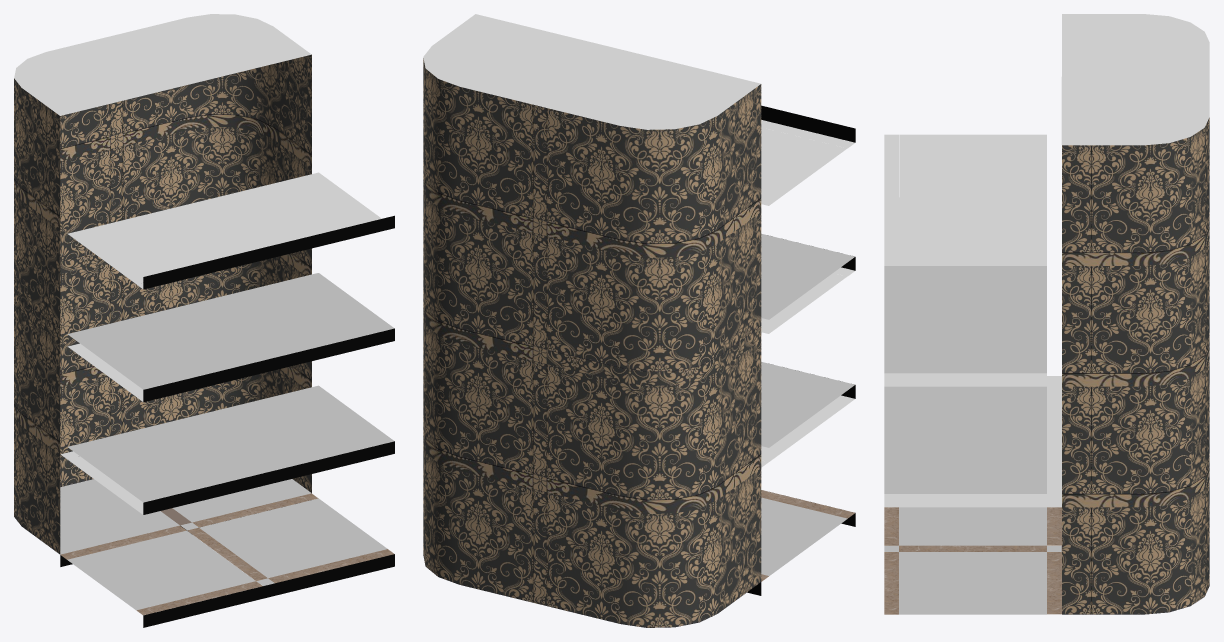
The model's file is Stairway.fbx.
3 renders of one model, left to right at view 1: azimuth 30°, elevation 25°; view 2: azimuth 150°, elevation 25°; view 3: azimuth 270°, elevation 25°, orthographic. The views are drawn at different scales.
Parts seen in each view (by area): view 1: Wall_curved_right_stairway.003, Wall_curved_left_stairway.003, Wall_curved_right_stairway.004, Wall_curved_left_stairway.002, Wall_curved_left_stairway.001, Floor_mainfloor.007, Floor_mainfloor.014, Floor_hallway.008, Floor_hallway.013, Floor_hallway.017, Floor_hallway.009, Ceiling_curved_right_stairway.001 (+38 smaller); view 2: Wall_curved_left_stairway.004, Wall_curved_left_stairway.002, Wall_curved_left_stairway.003, Wall_curved_left_stairway.001, Wall_curved_right_stairway.001, Wall_curved_right_stairway.002, Wall_curved_right_stairway.003, Wall_curved_right_stairway.004, Ceiling_curved_left_stairway.001, Ceiling_curved_right_stairway.001, Floor_mainfloor.007, Floor_hallway.013 (+20 smaller); view 3: Wall_curved_right_stairway.001, Wall_curved_right_stairway.002, Wall_curved_right_stairway.003, Wall_curved_right_stairway.004, Floor_hallway.017, Ceiling_hallway.013, Floor_mainfloor.014, Floor_hallway.009, Ceiling_hallway.014, Ceiling_curved_right_stairway.001, Ceiling_curved_left_stairway.001, Floor_hallway.008 (+24 smaller).
Boxes of the visible parts, bbox=[...] form: Wall_curved_right_stairway.003: bbox=[123, 126, 311, 267]; Wall_curved_left_stairway.003: bbox=[14, 149, 110, 328]; Wall_curved_right_stairway.004: bbox=[123, 54, 311, 154]; Wall_curved_left_stairway.002: bbox=[14, 263, 110, 441]; Wall_curved_left_stairway.001: bbox=[14, 375, 110, 554]; Floor_mainfloor.007: bbox=[67, 530, 255, 610]; Floor_mainfloor.014: bbox=[199, 498, 387, 578]; Floor_hallway.008: bbox=[68, 418, 255, 497]; Floor_hallway.013: bbox=[67, 305, 255, 384]; Floor_hallway.017: bbox=[199, 273, 387, 352]; Floor_hallway.009: bbox=[199, 385, 387, 465]; Ceiling_curved_right_stairway.001: bbox=[123, 14, 311, 83]; Wall_curved_left_stairway.004: bbox=[546, 84, 761, 243]; Wall_curved_left_stairway.002: bbox=[546, 340, 761, 499]; Wall_curved_left_stairway.003: bbox=[546, 212, 761, 371]; Wall_curved_left_stairway.001: bbox=[546, 468, 761, 627]; Wall_curved_right_stairway.001: bbox=[423, 442, 533, 602]; Wall_curved_right_stairway.002: bbox=[423, 314, 533, 474]; Wall_curved_right_stairway.003: bbox=[423, 186, 533, 346]; Wall_curved_right_stairway.004: bbox=[423, 58, 533, 218]; Ceiling_curved_left_stairway.001: bbox=[547, 50, 760, 129]; Ceiling_curved_right_stairway.001: bbox=[423, 14, 611, 104]; Floor_mainfloor.007: bbox=[761, 497, 847, 575]; Floor_hallway.013: bbox=[761, 241, 847, 319]; Wall_curved_right_stairway.001: bbox=[1062, 479, 1209, 614]; Wall_curved_right_stairway.002: bbox=[1062, 358, 1209, 493]; Wall_curved_right_stairway.003: bbox=[1062, 238, 1209, 373]; Wall_curved_right_stairway.004: bbox=[1062, 117, 1209, 252]; Floor_hallway.017: bbox=[899, 310, 1046, 373]; Ceiling_hallway.013: bbox=[899, 134, 1046, 197]; Floor_mainfloor.014: bbox=[899, 552, 1046, 614]; Floor_hallway.009: bbox=[899, 431, 1046, 493]; Ceiling_hallway.014: bbox=[899, 203, 1046, 265]; Ceiling_curved_right_stairway.001: bbox=[1061, 82, 1209, 145]; Ceiling_curved_left_stairway.001: bbox=[1062, 14, 1209, 76]; Floor_hallway.008: bbox=[899, 386, 1046, 425].
Bounding box in the file's own units: 1052 × 1800 × 1101.
